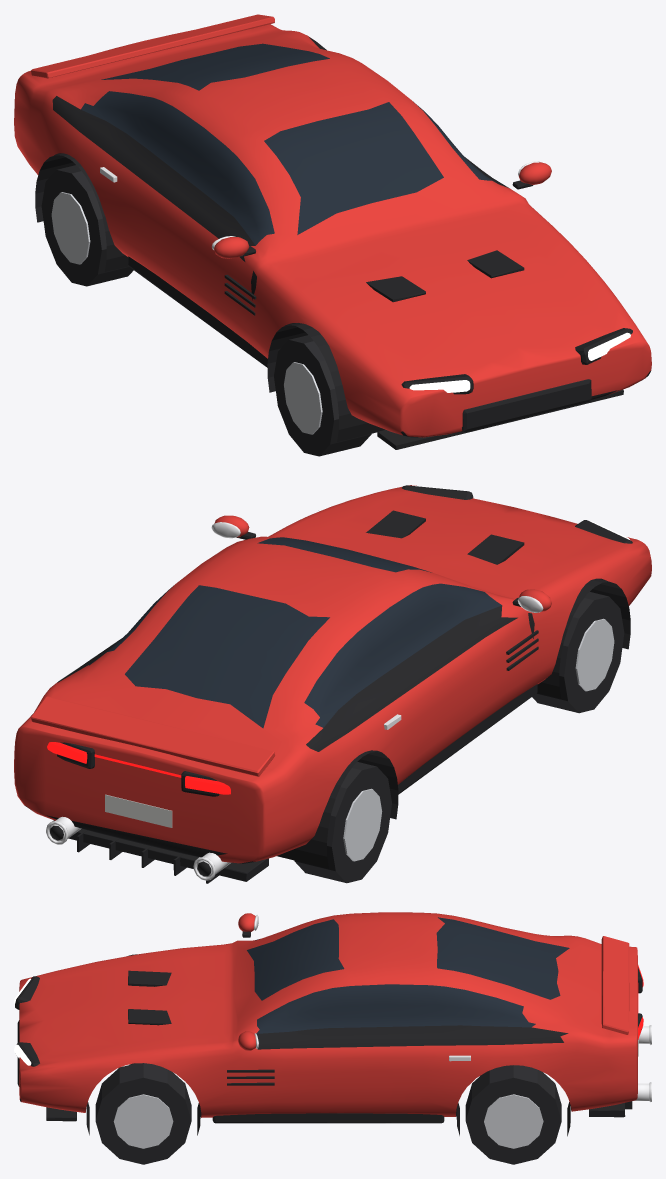
File: lumen_lod.glb
The picture shows the model from 3 angles, top to bottom: view 1: azimuth 30°, elevation 25°; view 2: azimuth 150°, elevation 25°; view 3: azimuth 270°, elevation 25°; orthographic projection. The views are drawn at different scales.
Parts seen in each view (by area): view 1: body, wheel_fr, wheel_rr; view 2: body, wheel_rr, wheel_fr; view 3: body, wheel_fl, wheel_rl.
Boxes of the visible parts, x1=… form: body: x1=14, y1=14, x2=651, y2=449; wheel_fr: x1=274, y1=335, x2=371, y2=456; wheel_rr: x1=41, y1=165, x2=133, y2=286; body: x1=14, y1=485, x2=651, y2=883; wheel_rr: x1=294, y1=762, x2=391, y2=883; wheel_fr: x1=532, y1=592, x2=624, y2=713; body: x1=14, y1=912, x2=651, y2=1136; wheel_fl: x1=95, y1=1063, x2=191, y2=1164; wheel_rl: x1=465, y1=1065, x2=561, y2=1164.
Size of the model in its own units: 2.19 by 1.32 by 4.52.
